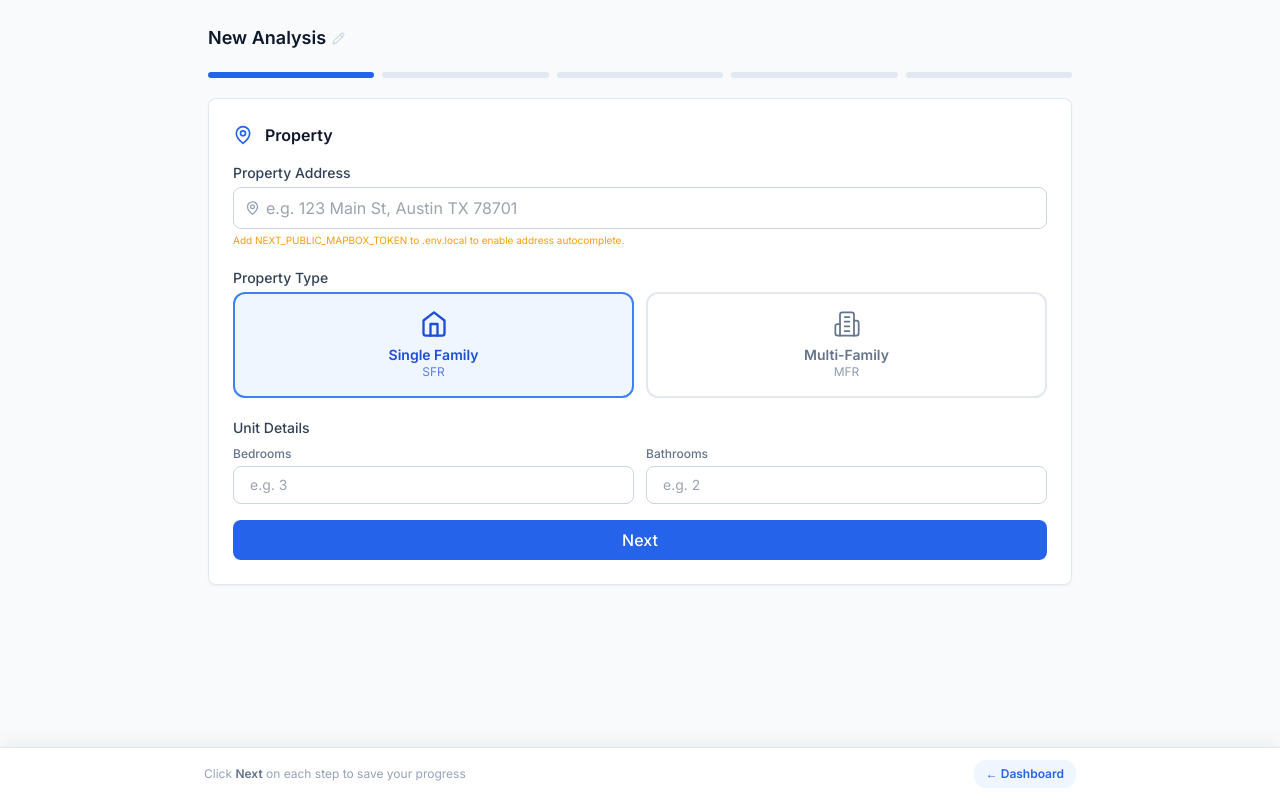
Scenario: DealAnalyzerForm header › Next button advances to step 1 when step 0 is active
The image size is (1280, 800).
# Fill in address so step can advance (Next validates the step)
Type "123 Main St" into the field with placeholder "e.g. 123 Main St, Austin TX 78701" at (640, 208), box [233, 187, 1047, 229]
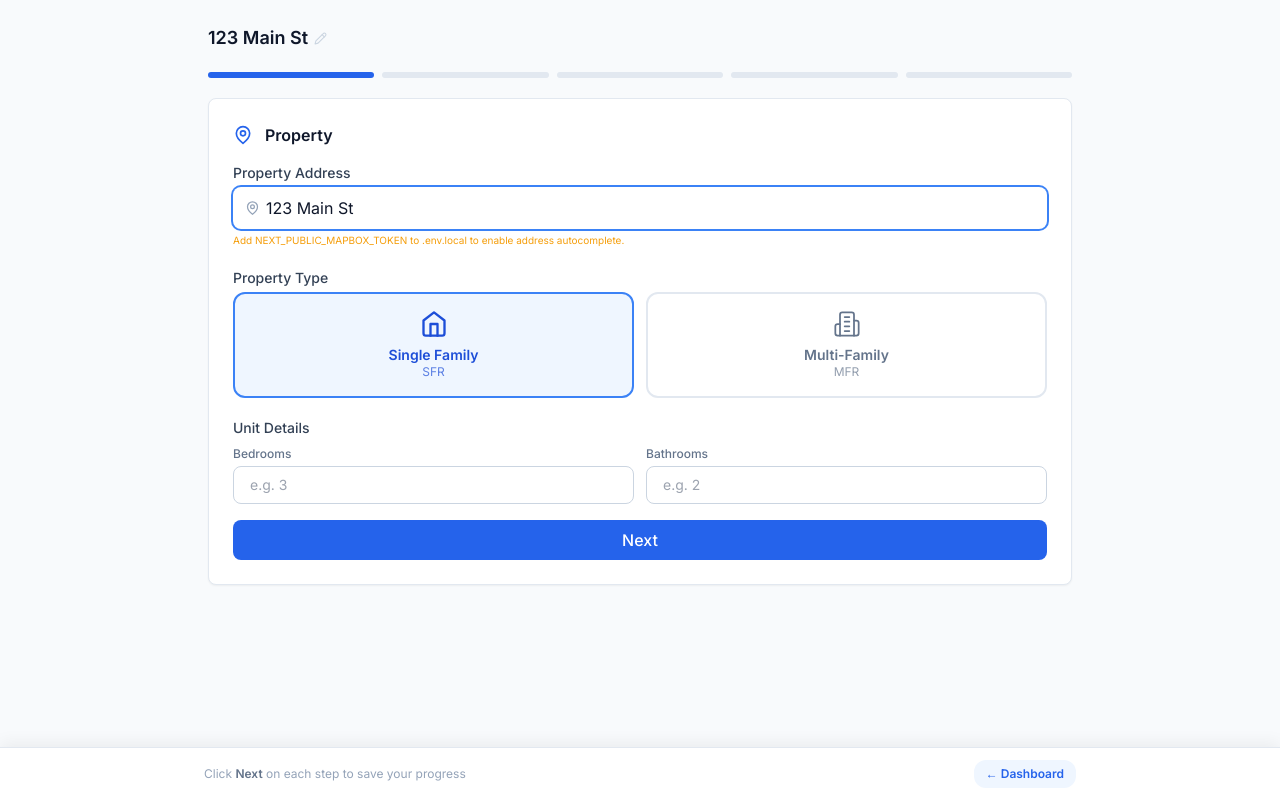
Click the button with test id "header-next-btn" at (640, 540), box [233, 520, 1047, 560]
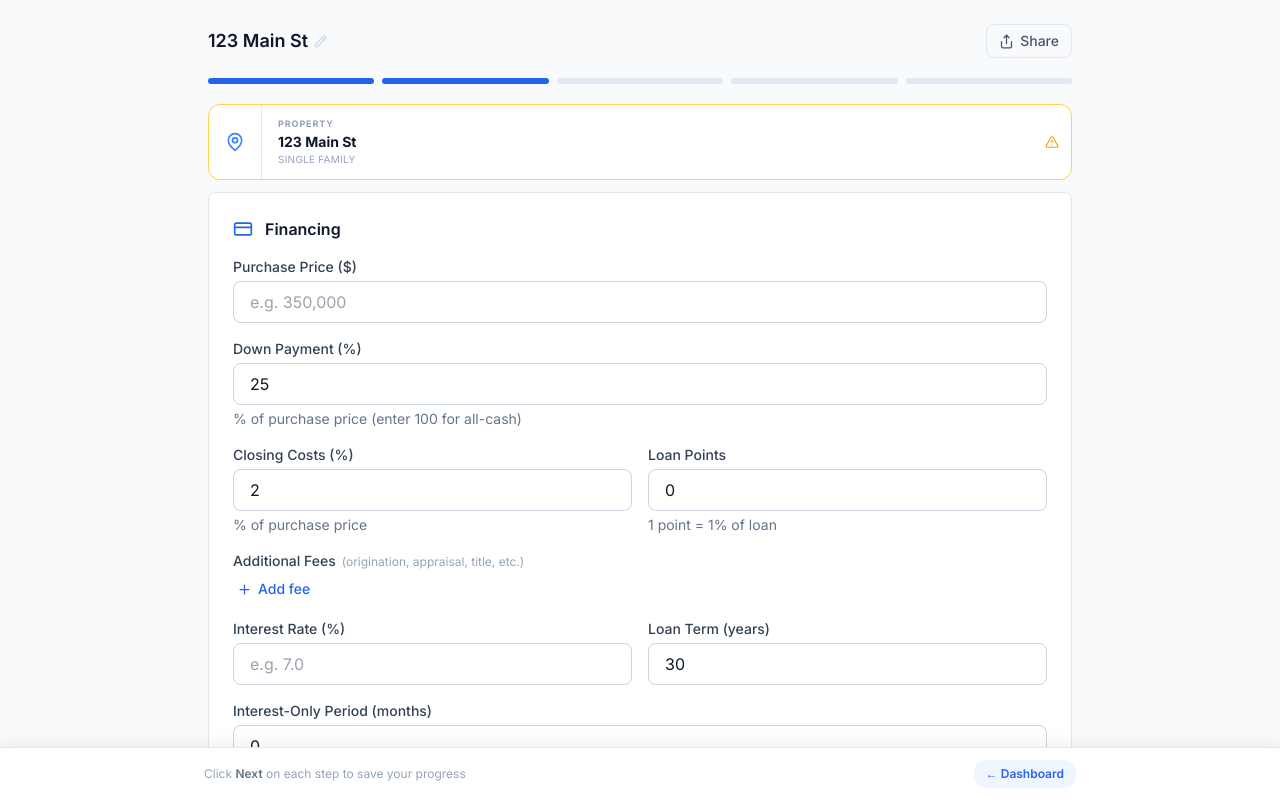
Result: the heading "Financing" is shown at [265, 217, 341, 241]
